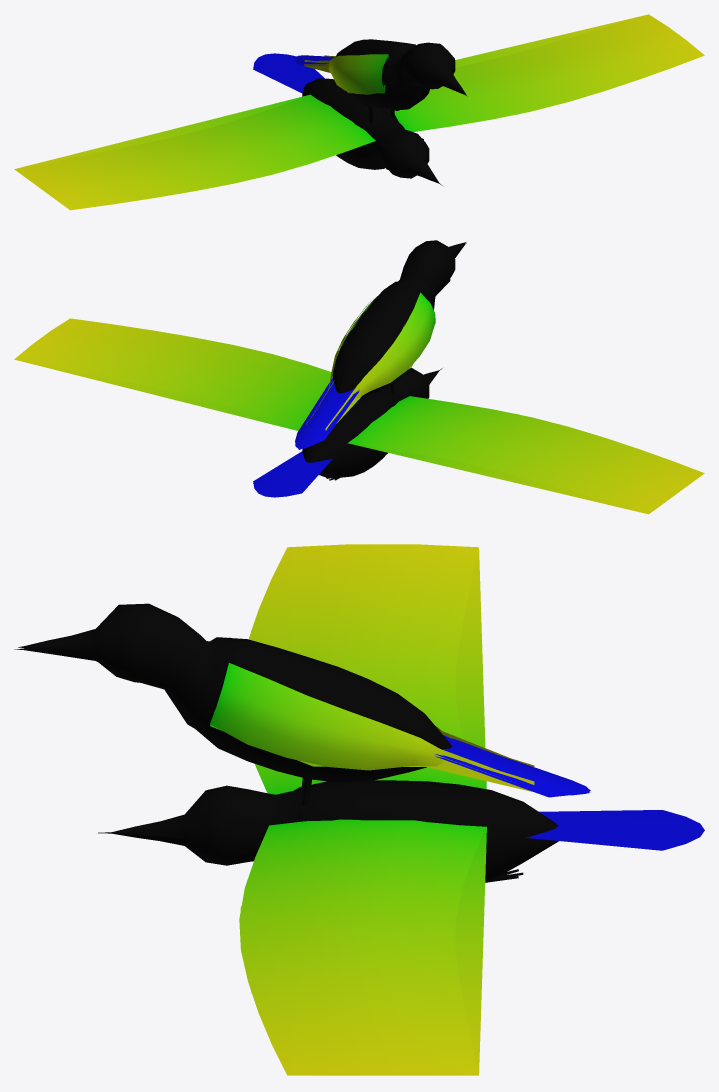
Rendered from crow.glb.
3 views of the same model, one above another, from view 1: azimuth 30°, elevation 25°; view 2: azimuth 150°, elevation 25°; view 3: azimuth 270°, elevation 25° (orthographic). The views are drawn at different scales.
Visible parts, largest first — view 1: fly0, stand0, fly2, fly1, stand1; view 2: fly0, stand0, fly2, fly1, stand1; view 3: fly0, stand0, fly2, stand1, fly1.
Boxes of the visible parts, x1,y1,x2,y2 form: fly0: (14,14,704,210); stand0: (295,39,466,159); fly2: (17,15,645,205); fly1: (17,35,576,208); stand1: (297,48,467,122); fly0: (14,318,704,514); stand0: (295,240,465,448); fly2: (16,360,694,513); fly1: (51,357,701,512); stand1: (298,243,466,449); fly0: (111,544,704,1075); stand0: (18,603,590,806); fly2: (98,548,566,1074); stand1: (14,641,590,806); fly1: (109,562,564,1075).
Size of the model in its own units: 0.95 by 0.2409 by 0.5251.
